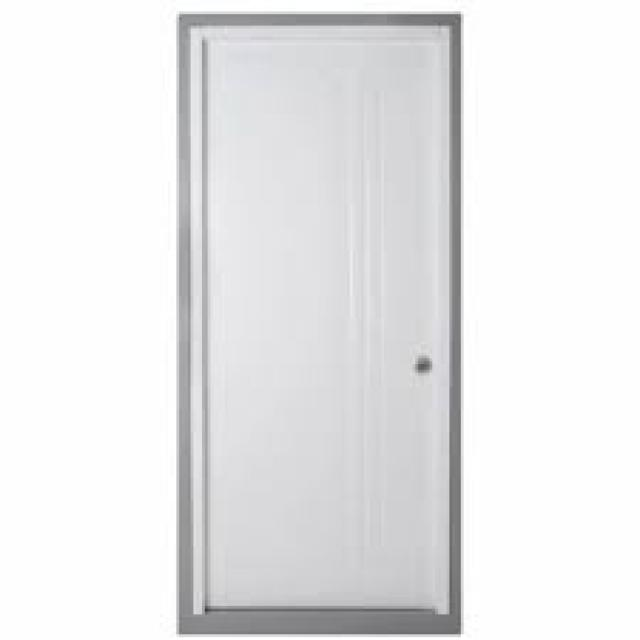door: (178, 13, 462, 633)
